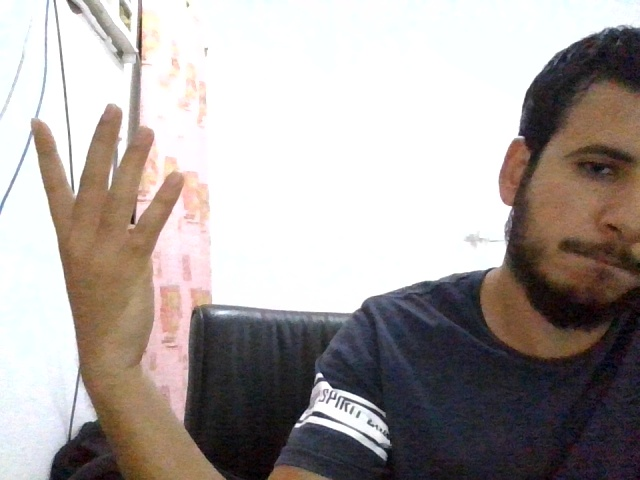Four: (31, 104, 187, 362)
